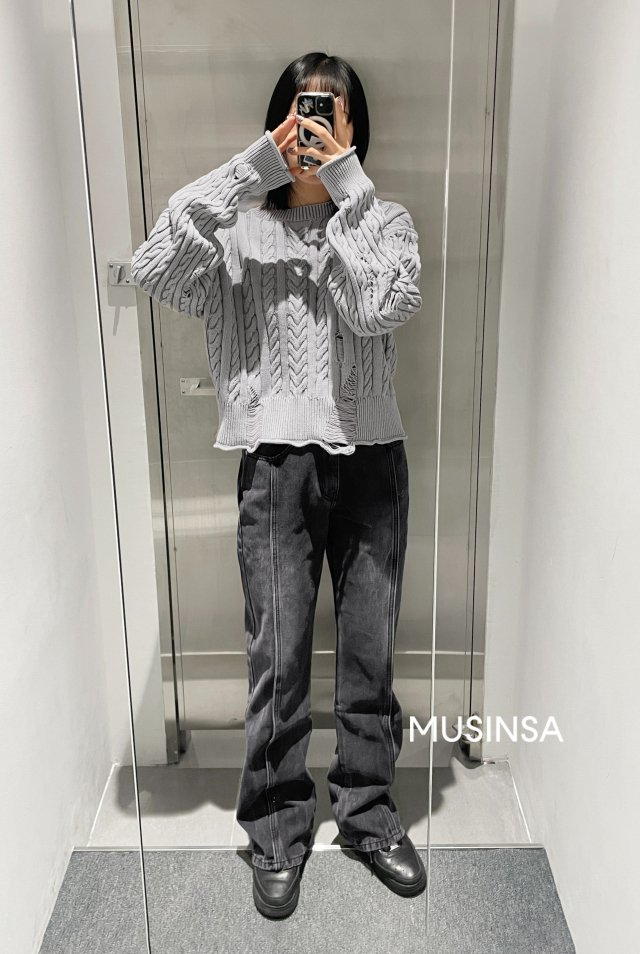Jeans: (226, 436, 422, 866)
Shoes: (244, 833, 430, 918)
Top: (126, 176, 436, 454)
